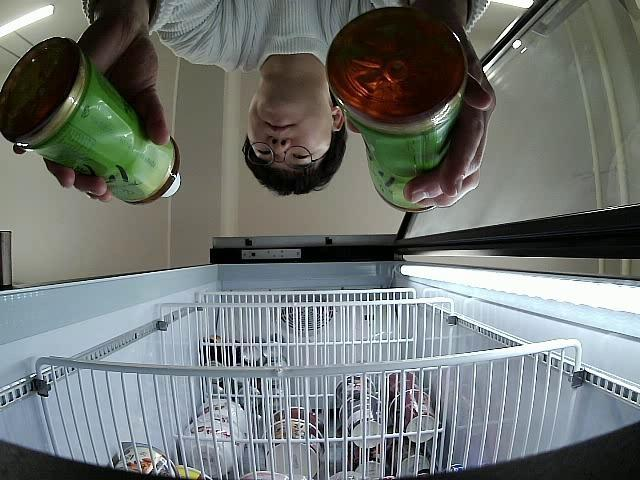19_17cha: (0, 36, 188, 206), (328, 9, 469, 214)
